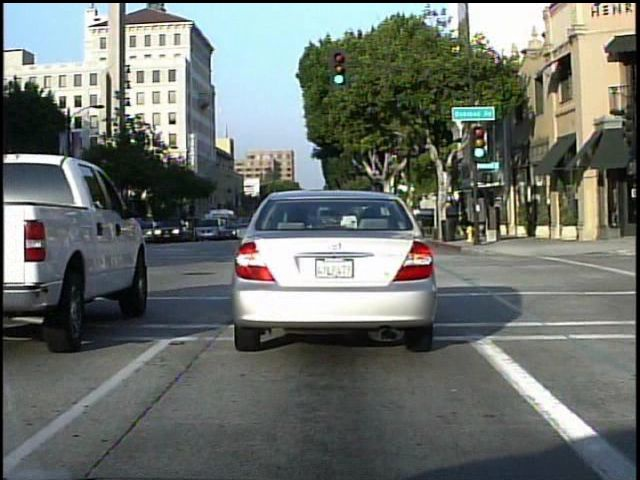person: (96, 206, 125, 251)
